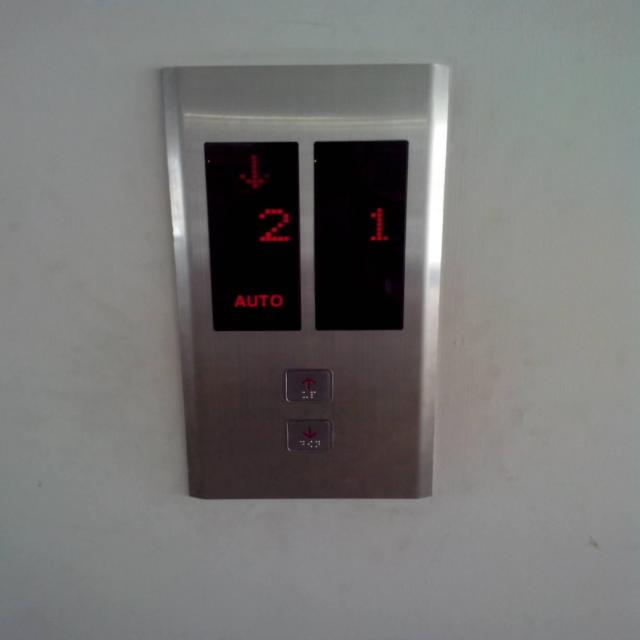down: (284, 416, 334, 455)
led: (202, 140, 302, 330), (313, 140, 408, 332)
up: (281, 368, 336, 407)
